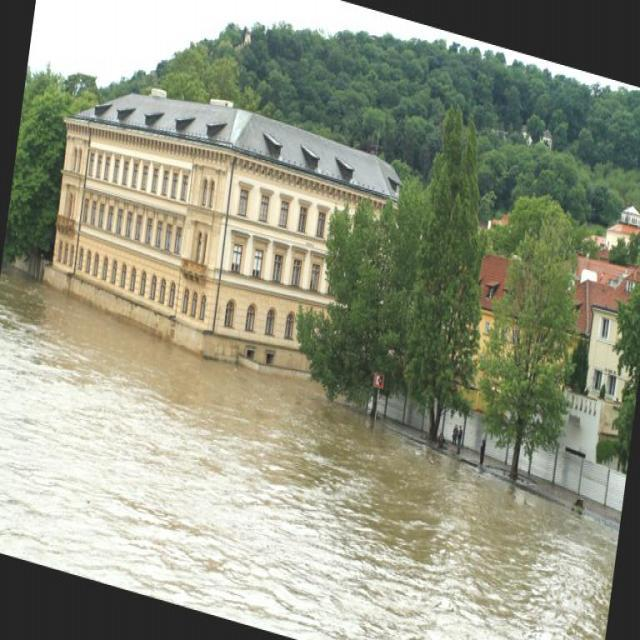flood: (0, 298, 621, 639)
